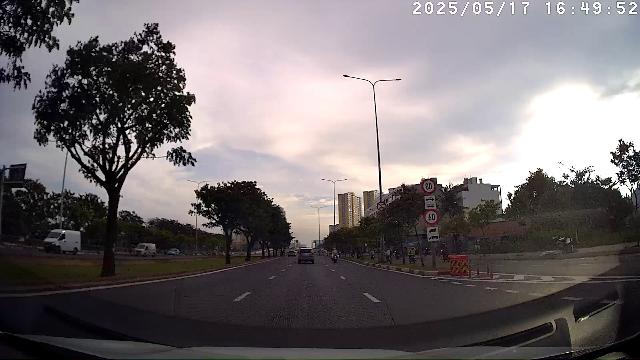127-toc-do-toi-da-60: (423, 209, 439, 225)
127-toc-do-toi-da-80: (421, 179, 436, 194)
